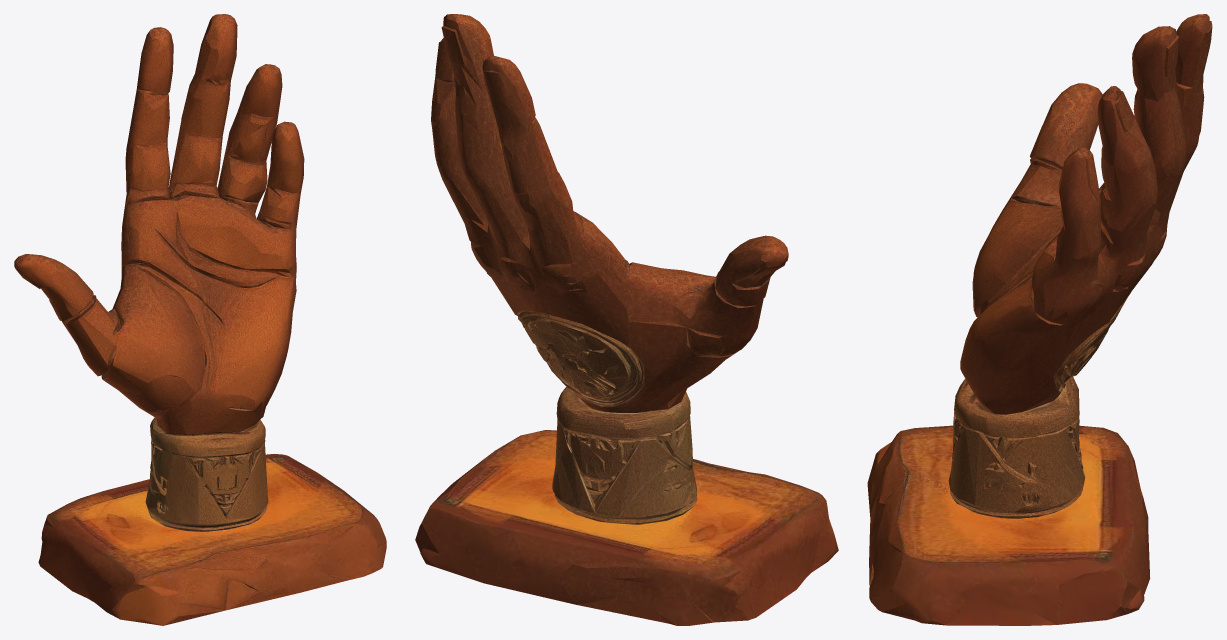
The model's file is forearm.glb.
The picture shows the model from 3 angles, left to right: view 1: azimuth 30°, elevation 25°; view 2: azimuth 150°, elevation 25°; view 3: azimuth 270°, elevation 25°; orthographic projection. The views are drawn at different scales.
Visible parts, largest first — view 1: mesh_node; view 2: mesh_node; view 3: mesh_node.
Part boxes in pixels (left/top/right/bottom): mesh_node: left=14, top=14, right=386, bottom=625; mesh_node: left=415, top=14, right=838, bottom=625; mesh_node: left=867, top=14, right=1212, bottom=625.
Bounding box in the file's own units: 1.28 × 1.9 × 1.06.
Materials: 1 (1 with a texture image).
